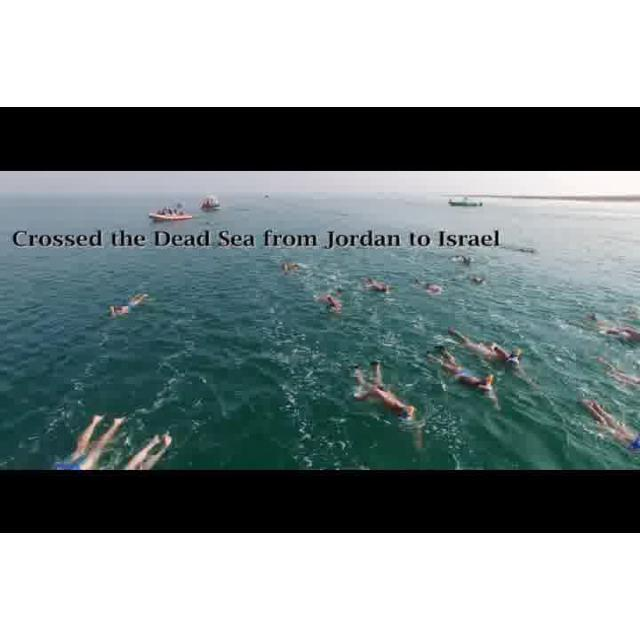human: (355, 362, 421, 435), (55, 410, 123, 478), (429, 339, 497, 405), (452, 322, 533, 377), (585, 396, 640, 453), (113, 431, 177, 479), (108, 278, 151, 323)
